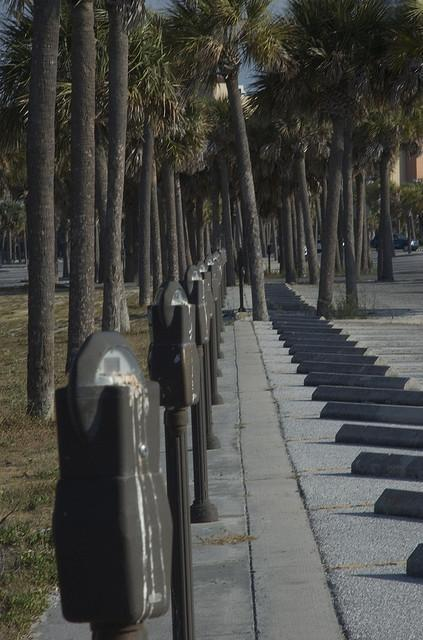car: (370, 234, 420, 252)
